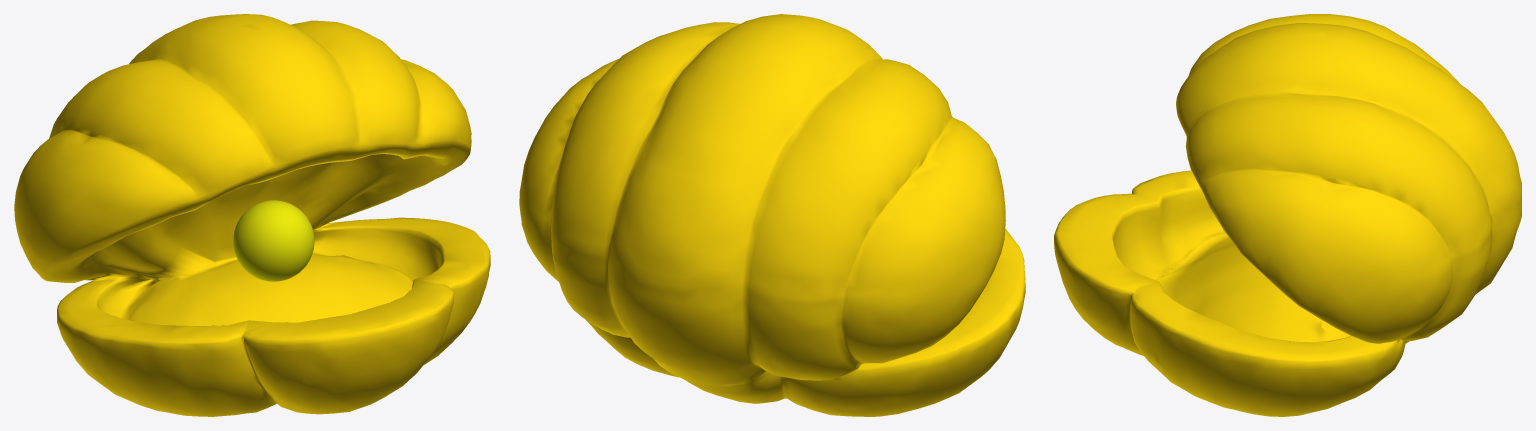
The model's file is goldenshell.glb.
3 views of the same model, side by side, from view 1: azimuth 30°, elevation 25°; view 2: azimuth 150°, elevation 25°; view 3: azimuth 270°, elevation 25° (orthographic). The views are drawn at different scales.
Parts seen in each view (by area): view 1: Mesh1.0, Sphere.001; view 2: Mesh1.0; view 3: Mesh1.0.
Boxes of the visible parts, <box> form: Mesh1.0: <box>14,14,490,416</box>; Sphere.001: <box>233,200,314,281</box>; Mesh1.0: <box>519,14,1025,416</box>; Mesh1.0: <box>1054,14,1521,416</box>.
Size of the model in its own units: 1.91 by 1.48 by 1.89.
Materials: 2 (1 with a texture image).
